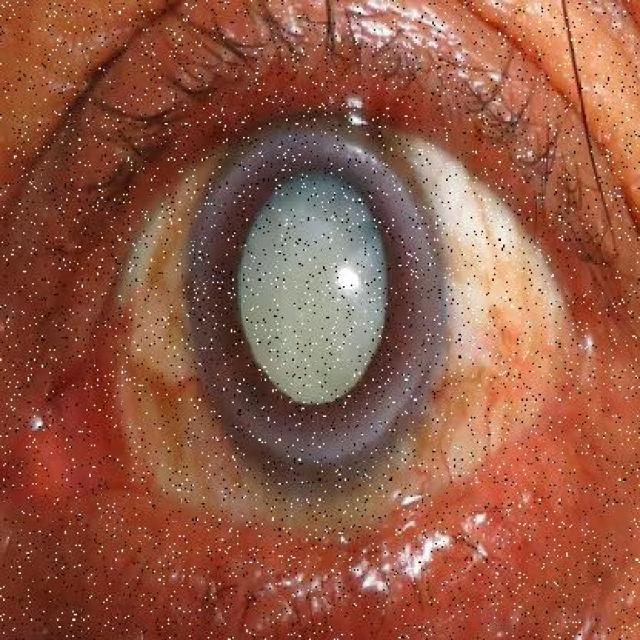Cataract: (162, 91, 486, 526)
